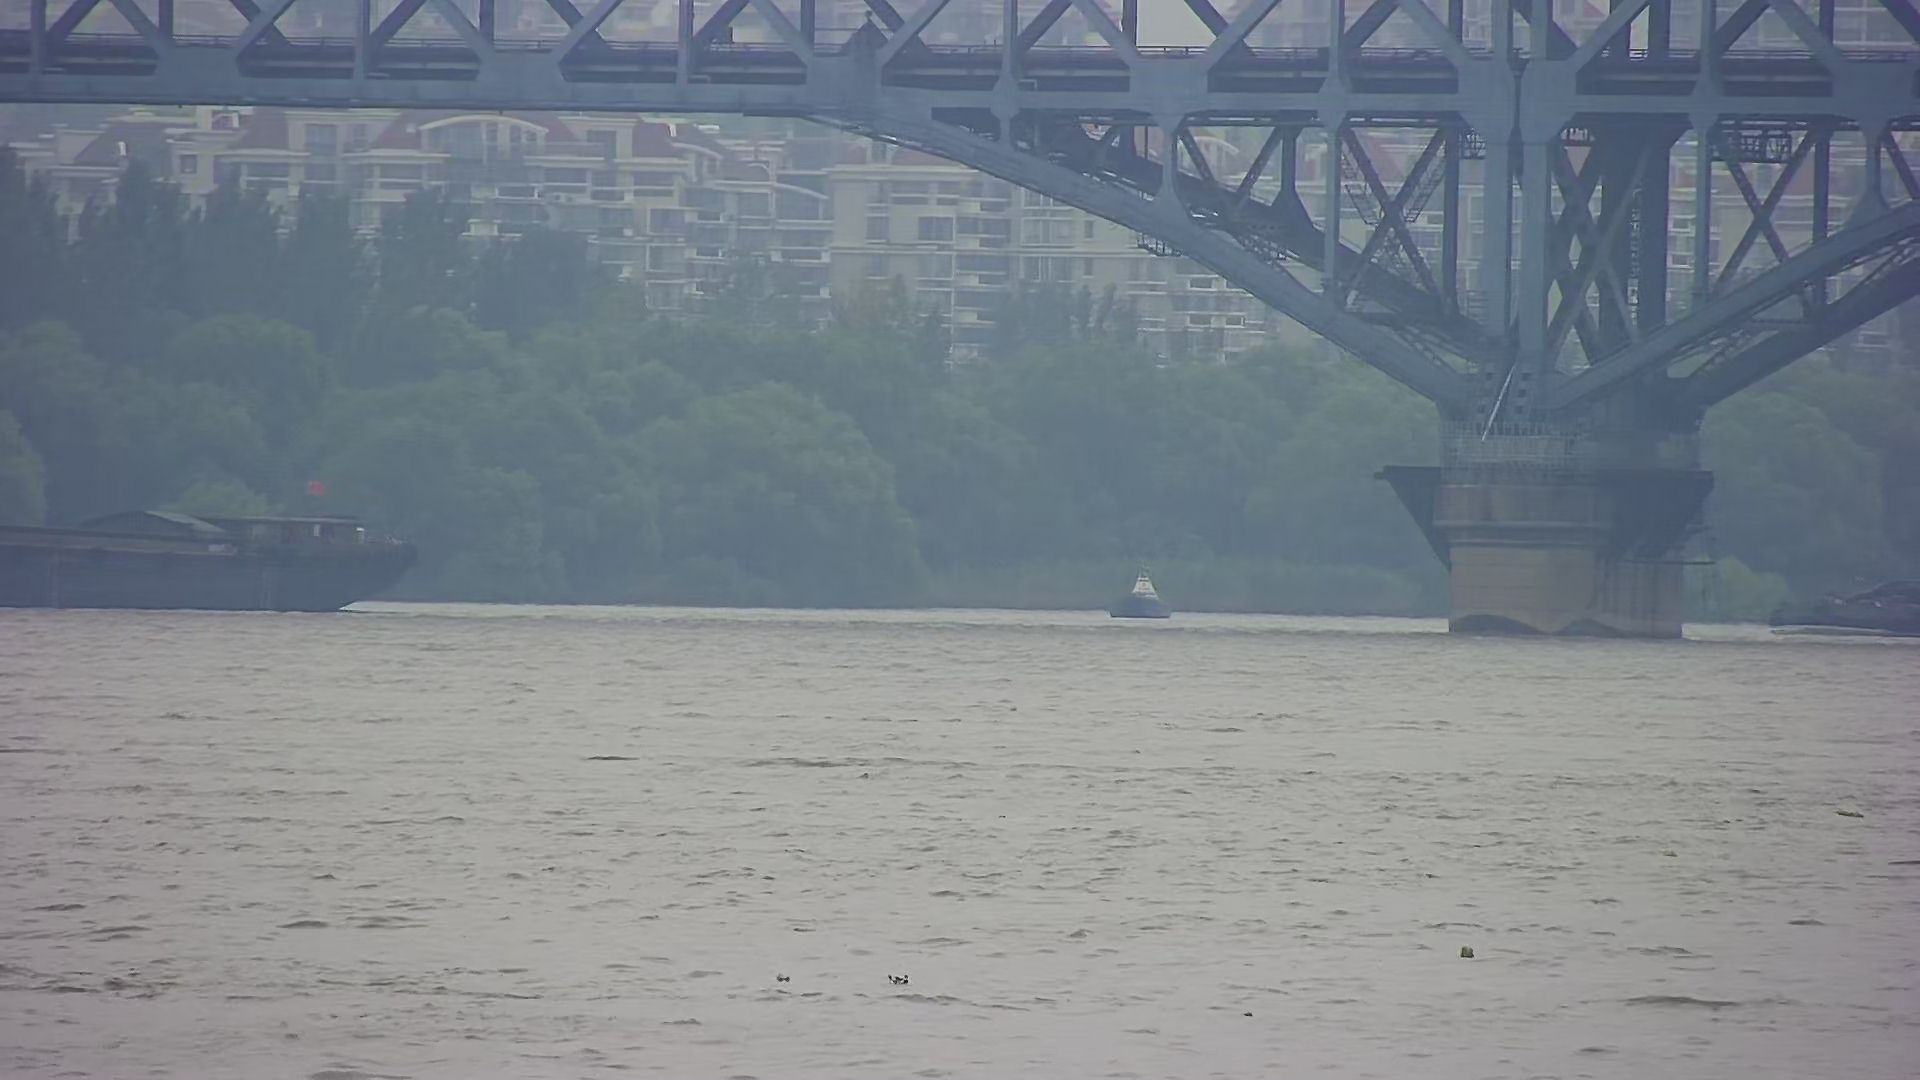boat: (1106, 563, 1185, 625)
bridge: (1, 1, 1916, 642)
ship: (1, 465, 439, 611)
